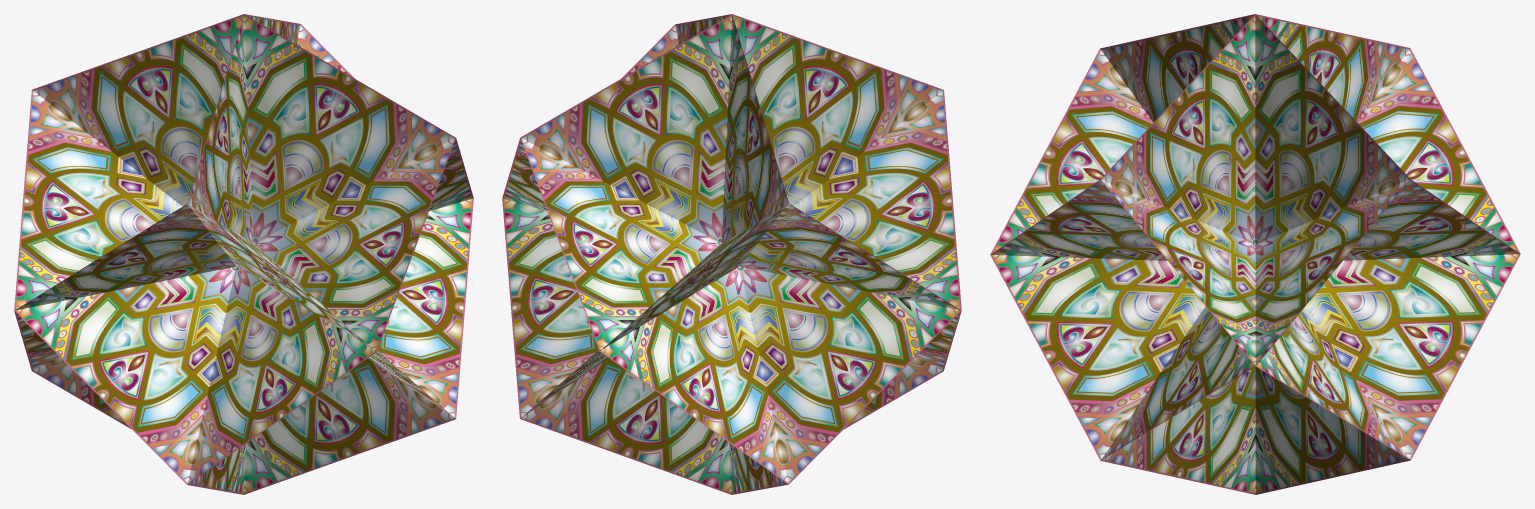
File: 6Mobius48b.obj
3 renders of one model, left to right at view 1: azimuth 30°, elevation 25°; view 2: azimuth 150°, elevation 25°; view 3: azimuth 270°, elevation 25°, orthographic.
Size of the model in its own units: 2.16 by 2.16 by 2.16.
Materials: 1 (1 with a texture image).
